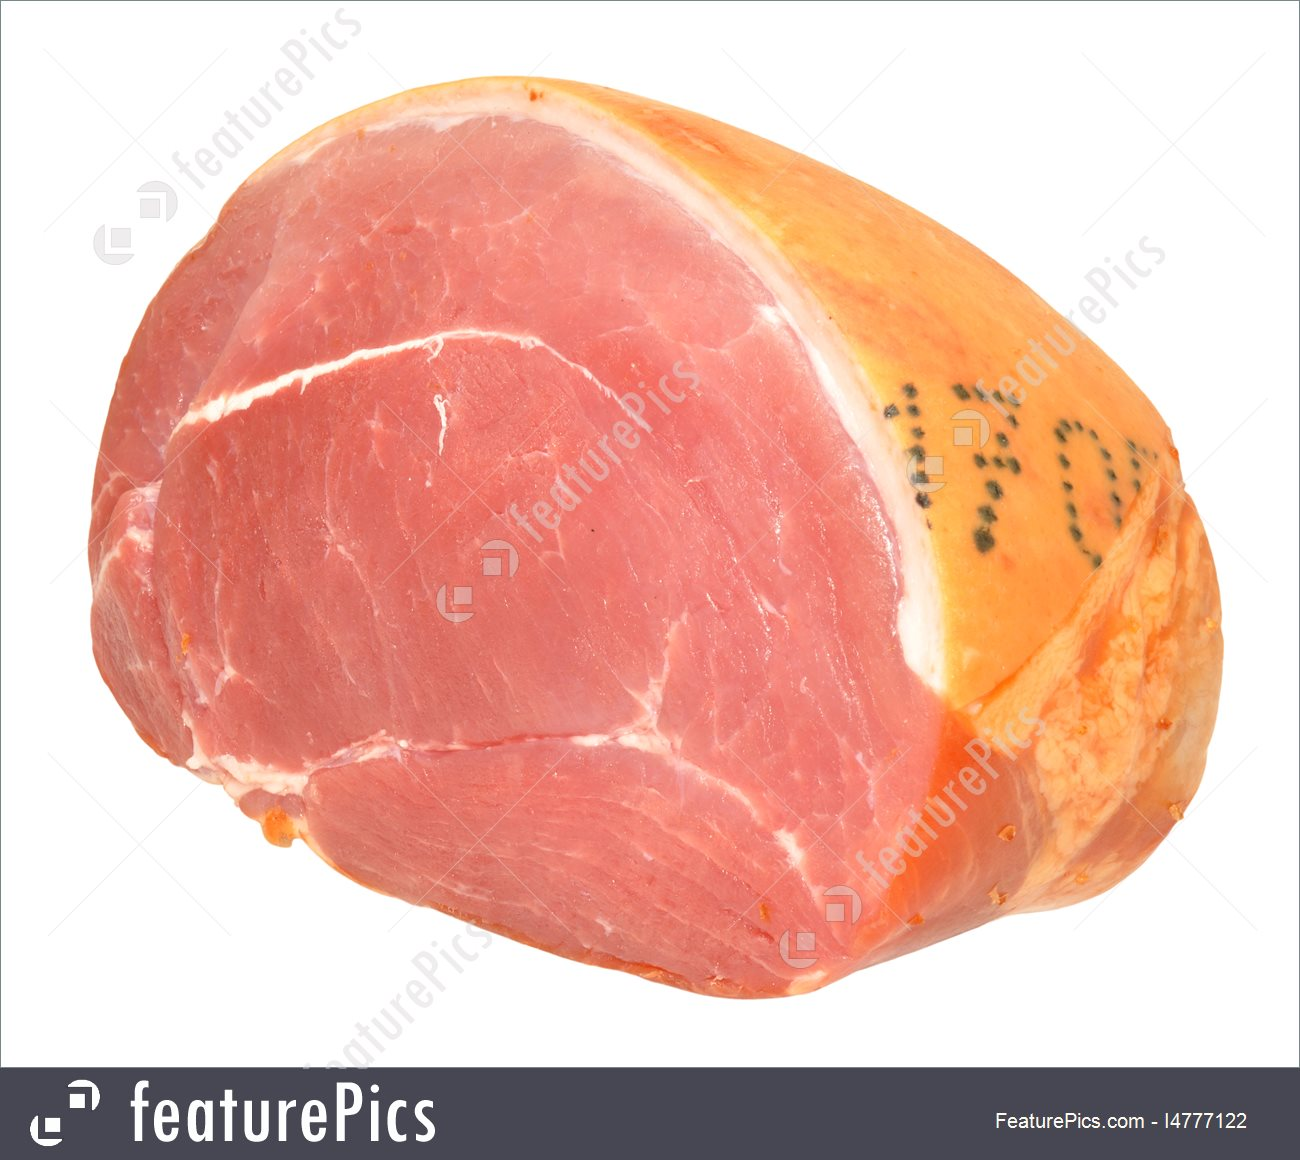bacon: (99, 109, 1246, 993)
